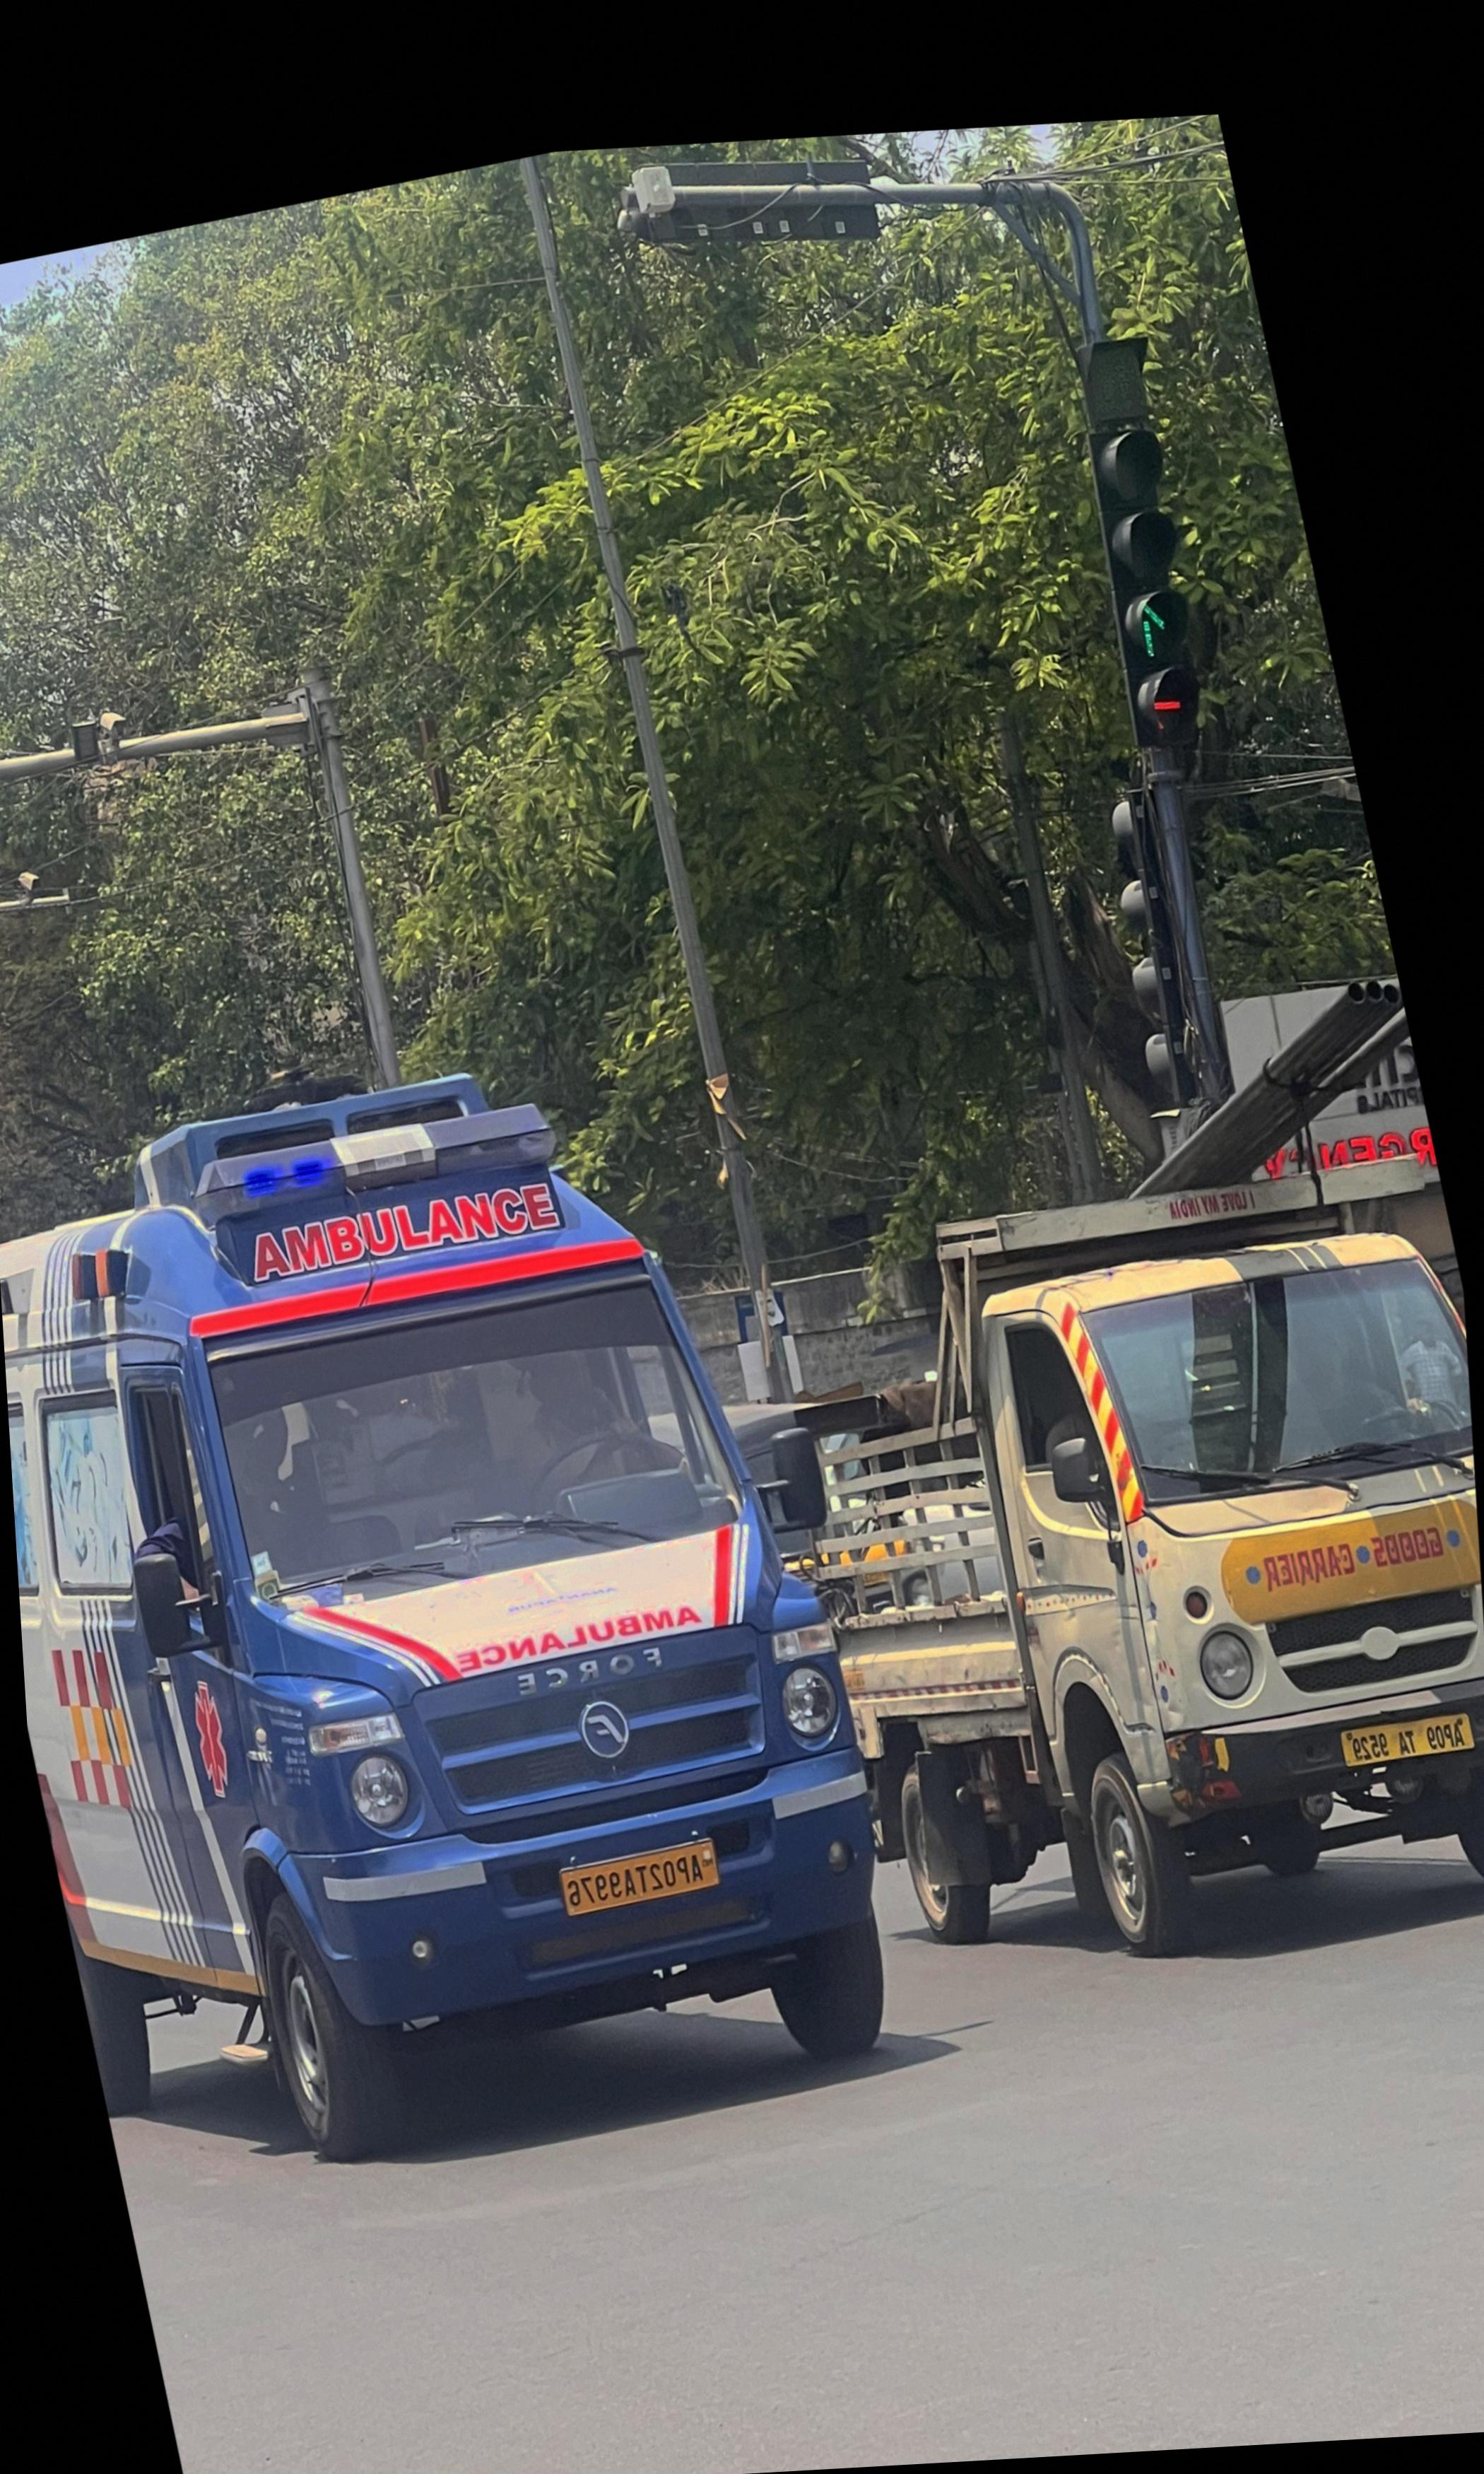ambulance: (0, 1092, 890, 2161)
